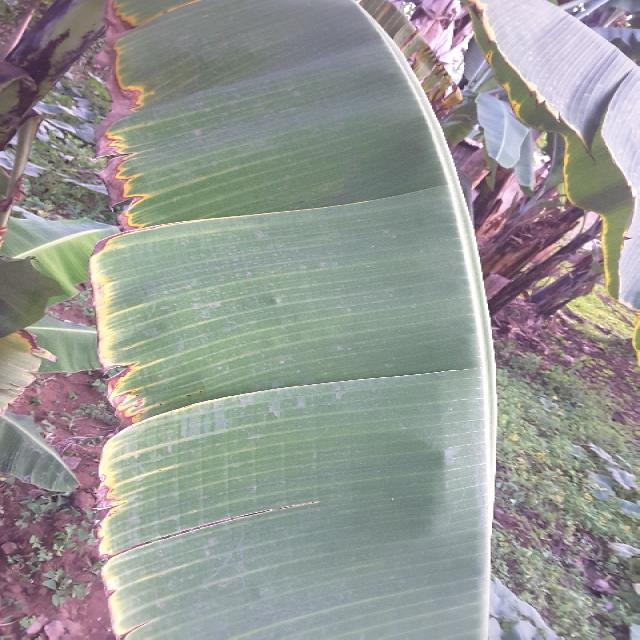Cordana: (29, 0, 178, 639), (460, 10, 640, 322), (0, 319, 83, 381)
